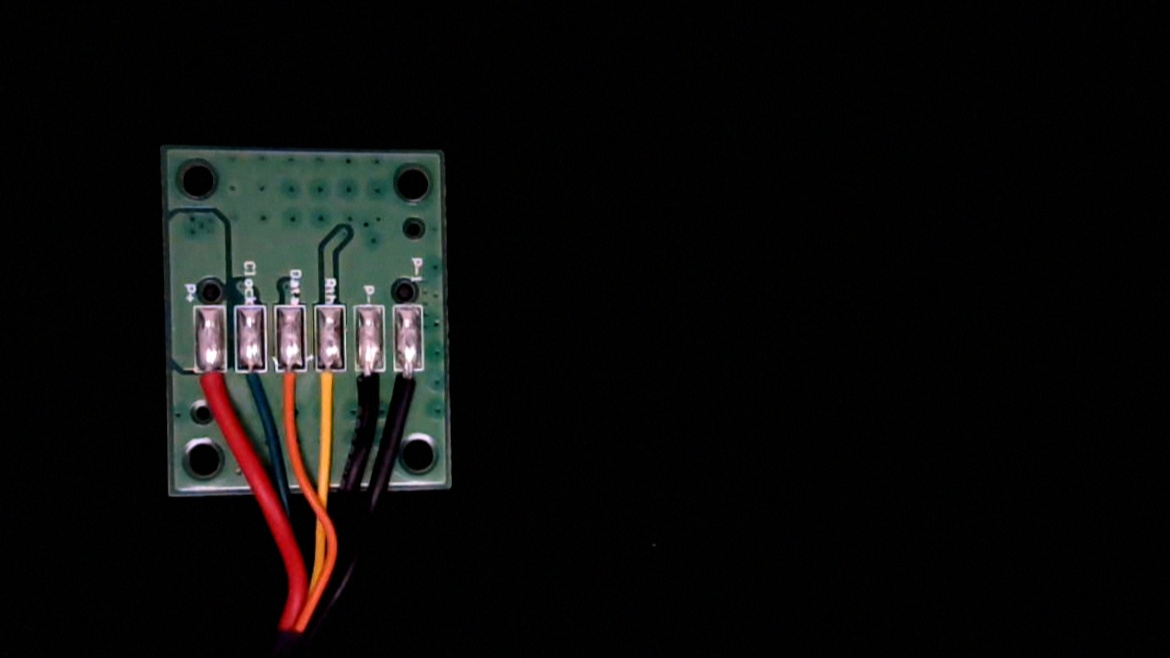Black: (355, 358, 385, 418)
Black1: (394, 356, 424, 417)
Green: (234, 356, 267, 415)
Orange: (277, 357, 305, 418)
Red: (193, 356, 227, 420)
Yellow: (314, 357, 347, 422)
